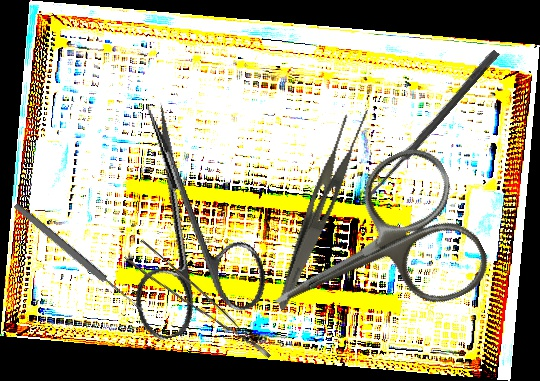Dressing Forceps: (275, 99, 373, 319)
Iris Scissors: (240, 137, 498, 371), (87, 87, 275, 345)
Surgical Spoon: (359, 48, 500, 208), (12, 201, 145, 315)
Tissue Forceps: (123, 232, 272, 381)
